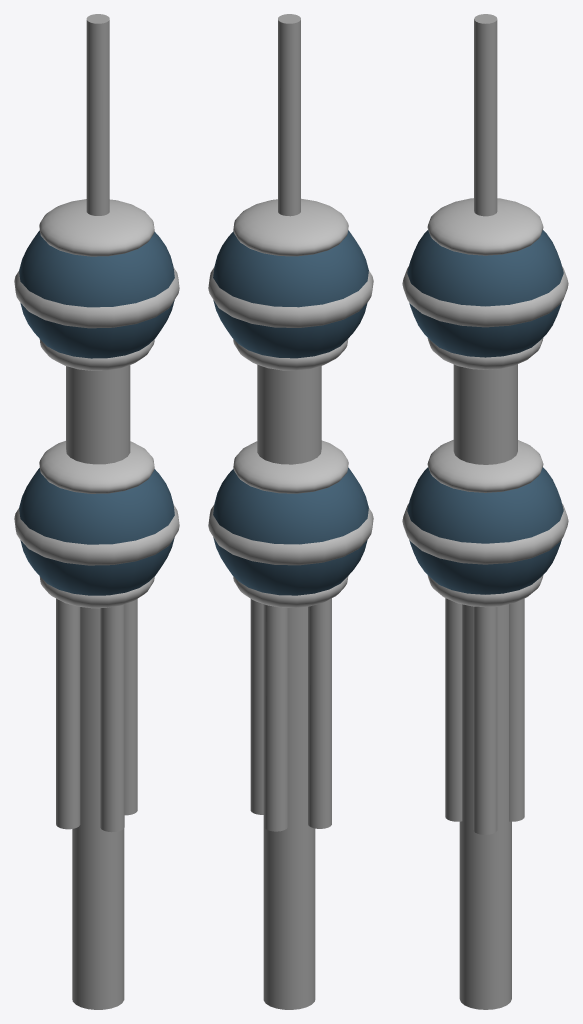
The model's file is balltower.fbx.
3 renders of one model, left to right at view 1: azimuth 30°, elevation 25°; view 2: azimuth 150°, elevation 25°; view 3: azimuth 270°, elevation 25°, orthographic.
Parts seen in each view (by area): view 1: pCylinder156; view 2: pCylinder156; view 3: pCylinder156.
Boxes of the visible parts, bbox=[...] form: pCylinder156: bbox=[14, 14, 179, 1009]; pCylinder156: bbox=[208, 14, 373, 1009]; pCylinder156: bbox=[402, 14, 568, 1009].
Size of the model in its own units: 208308 by 1354897 by 208307.
